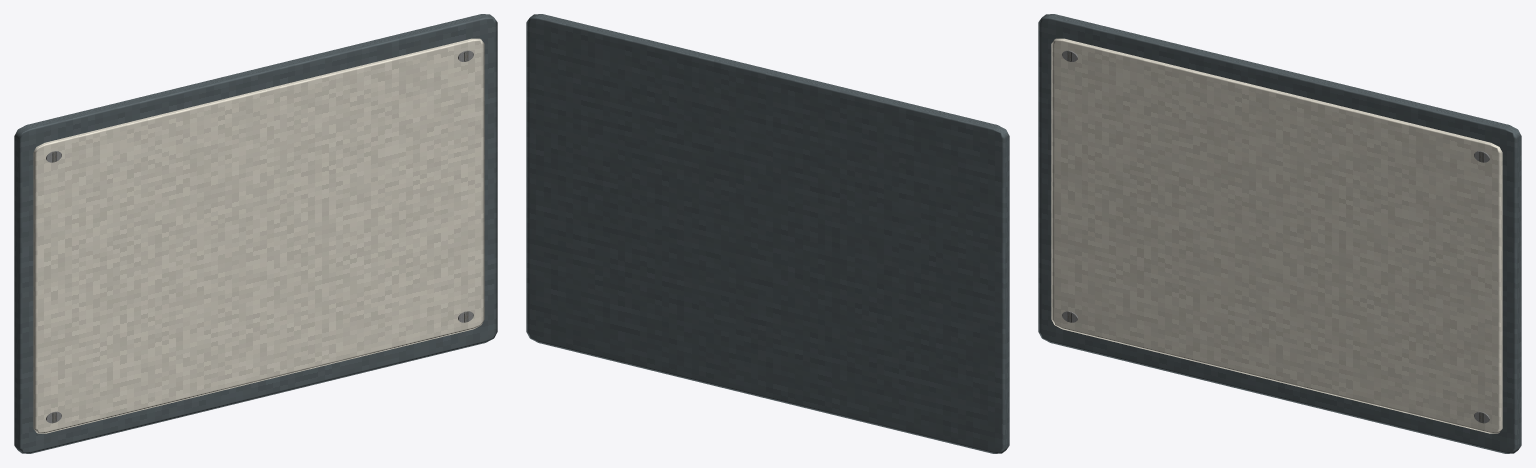
File: whiteboard.glb
3 views of the same model, side by side, from view 1: azimuth 30°, elevation 25°; view 2: azimuth 150°, elevation 25°; view 3: azimuth 330°, elevation 25° (orthographic).
Visible parts, largest first — view 1: face, back; view 2: back; view 3: face, back.
Boxes of the visible parts, bbox=[...] form: face: bbox=[33, 38, 484, 433]; back: bbox=[14, 14, 497, 453]; back: bbox=[526, 14, 1009, 453]; face: bbox=[1051, 38, 1502, 433]; back: bbox=[1038, 14, 1521, 453].
Size of the model in its own units: 1.2 by 0.78 by 0.0288.
3 materials, 3 textured.
